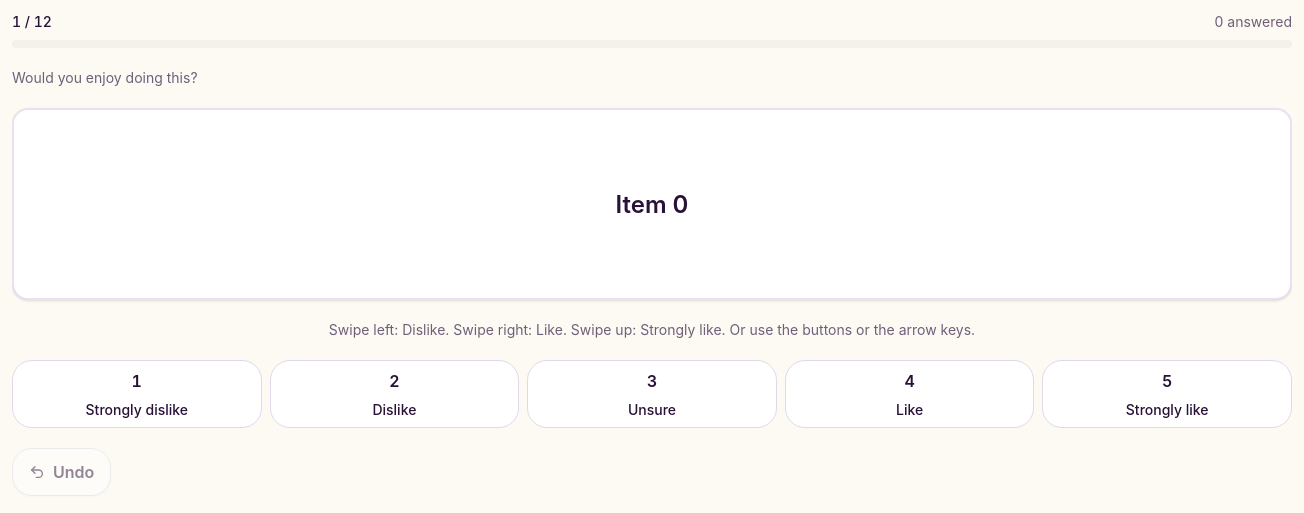
Scenario: SequenceStation (D2/D3) › undo goes back one card
Click the button "3 Unsure" at [652, 394], box [527,360,777,428]
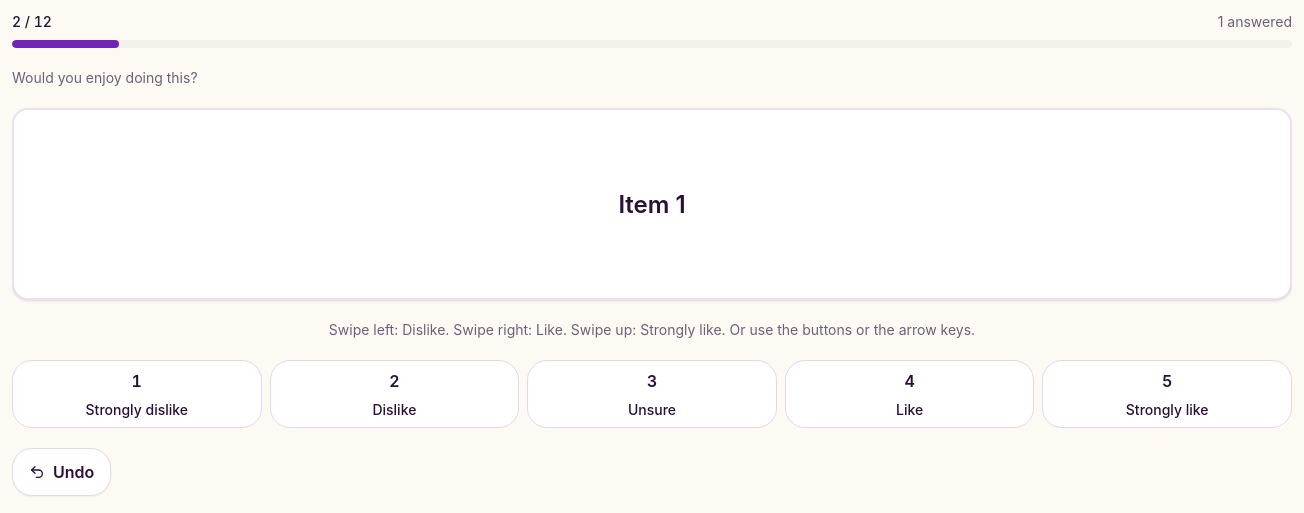
Click the button "Undo" at [62, 472], box [12,448,111,496]
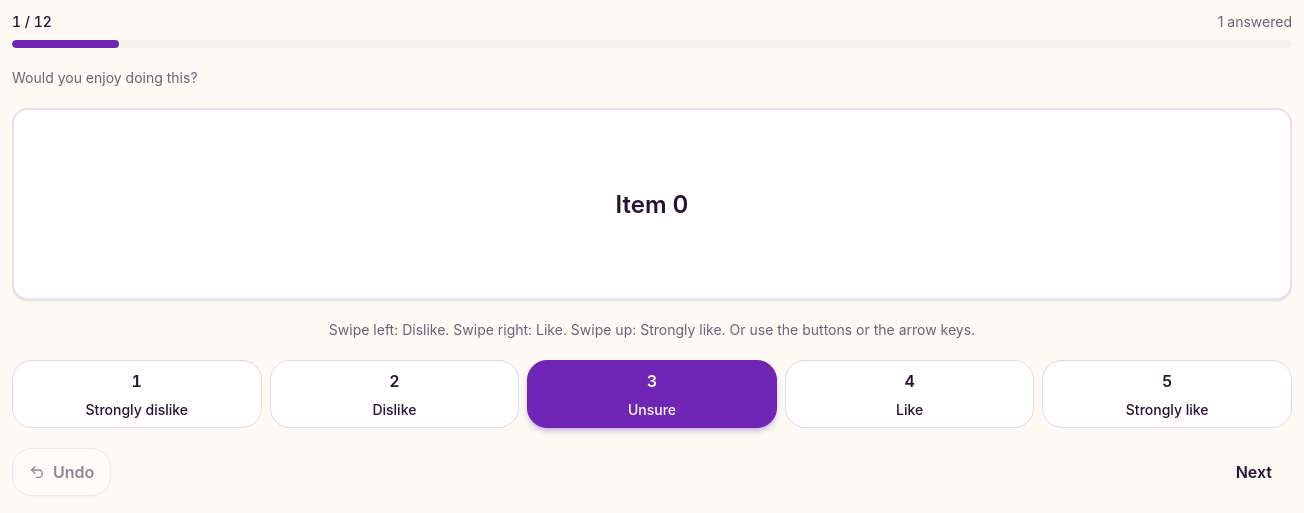
expect the text with test id "counter" reads "1 / 12": met, box [12,13,52,30]
